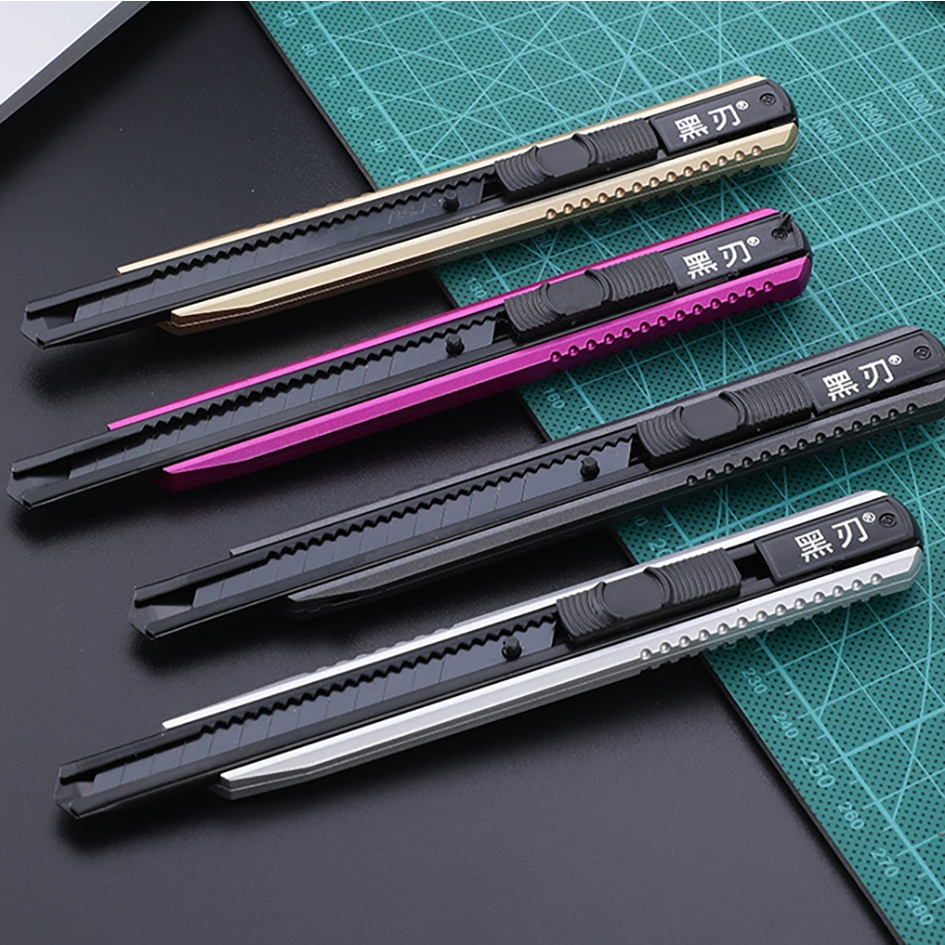cutter: (20, 489, 926, 821), (127, 327, 945, 650), (7, 205, 815, 512), (15, 74, 803, 351)
